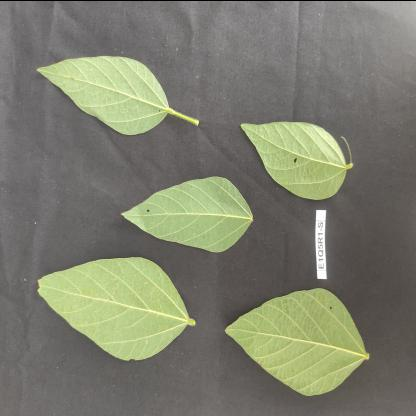label: (310, 206, 332, 282)
leaflets: (32, 25, 200, 140), (228, 289, 381, 415), (34, 254, 197, 366), (107, 166, 259, 248), (242, 104, 368, 196)
